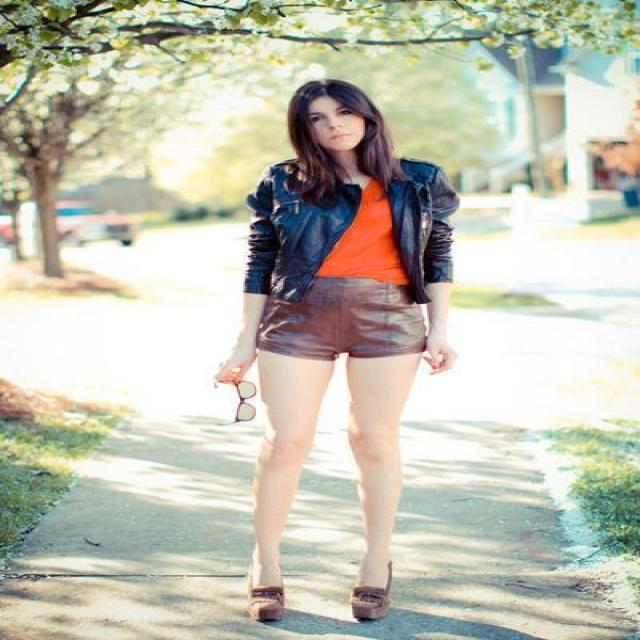jacket: (245, 159, 458, 304)
shirt: (318, 192, 402, 284)
shoe: (252, 564, 391, 630)
shorts: (254, 272, 437, 361)
